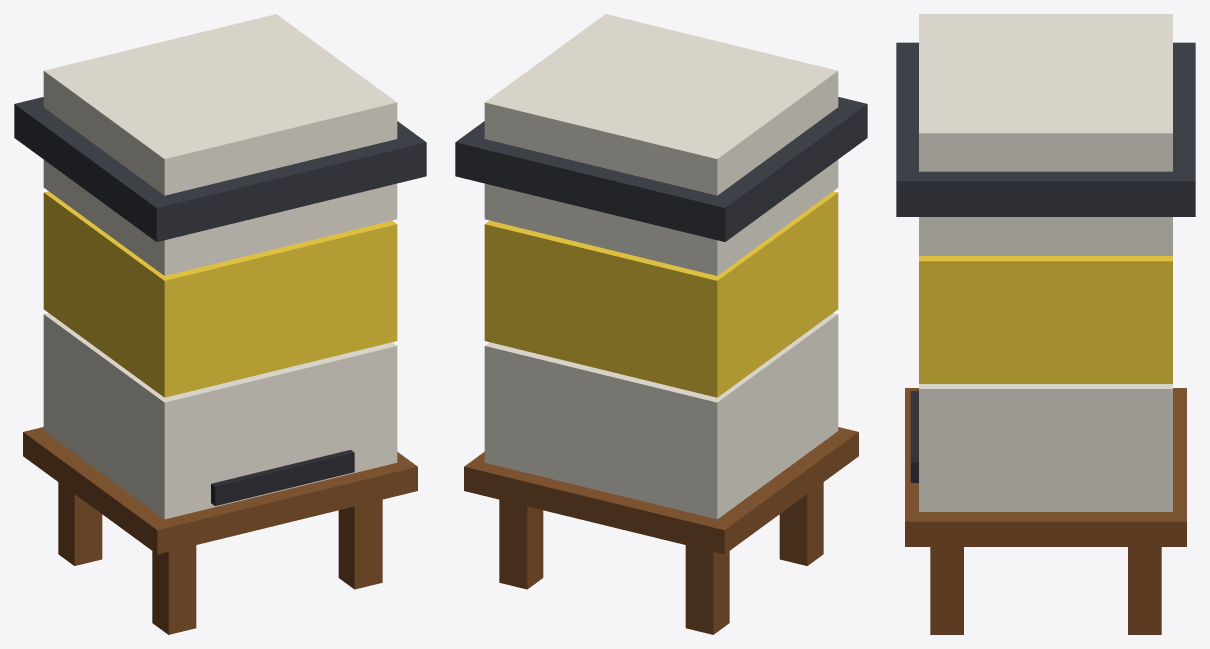
Rendered from beehive.glb.
3 renders of one model, left to right at view 1: azimuth 30°, elevation 25°; view 2: azimuth 150°, elevation 25°; view 3: azimuth 270°, elevation 25°, orthographic. The views are drawn at different scales.
Parts seen in each view (by area): view 1: beehive; view 2: beehive; view 3: beehive.
Part boxes in pixels (x1,y1,x2,y2): beehive: [14, 14, 426, 634]; beehive: [455, 14, 867, 634]; beehive: [896, 14, 1195, 634].
Bounding box in the file's own units: 0.58 × 0.99 × 0.53.
